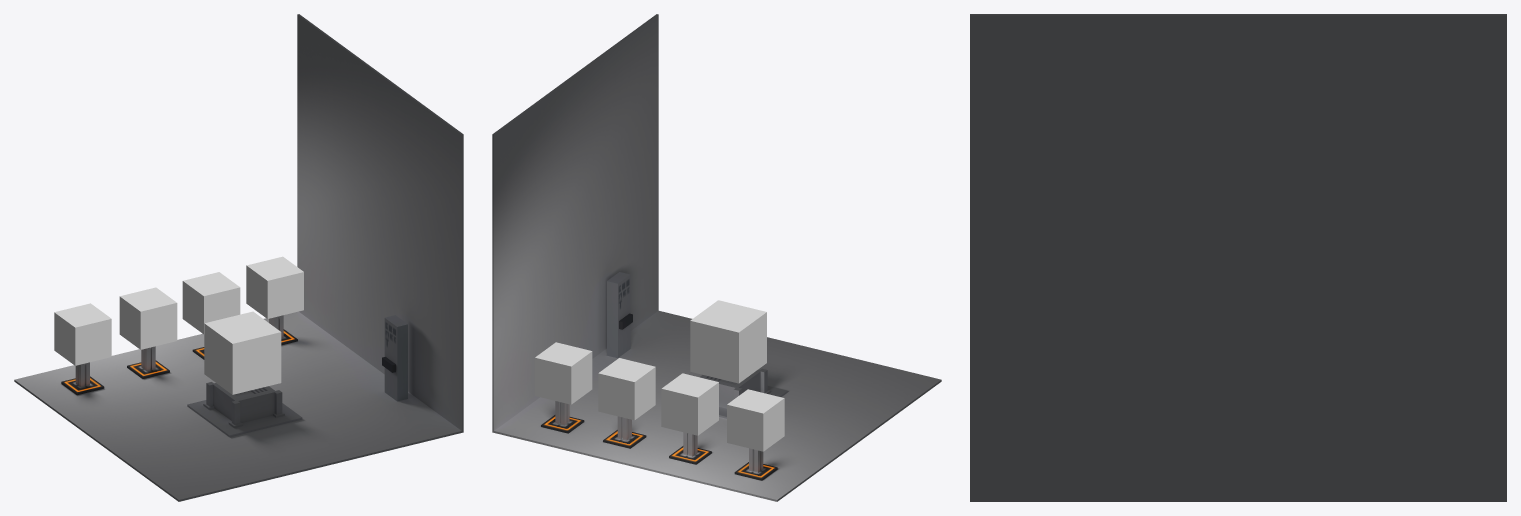
File: level3-placeholders.glb
The picture shows the model from 3 angles, left to right: view 1: azimuth 30°, elevation 25°; view 2: azimuth 150°, elevation 25°; view 3: azimuth 270°, elevation 25°; orthographic projection. The views are drawn at different scales.
Parts seen in each view (by area): view 1: voxel_map_level1-4-0, show-model, model-placeholder-2, model-placeholder-1, model-placeholder-4, model-placeholder-3; view 2: voxel_map_level1-4-0, show-model, model-placeholder-1, model-placeholder-4, model-placeholder-3, model-placeholder-2; view 3: voxel_map_level1-4-0.
Part boxes in pixels (left/top/right/bottom): voxel_map_level1-4-0: left=14, top=14, right=463, bottom=501; show-model: left=204, top=311, right=281, bottom=394; model-placeholder-2: left=119, top=287, right=177, bottom=349; model-placeholder-1: left=54, top=303, right=111, bottom=365; model-placeholder-4: left=246, top=256, right=303, bottom=318; model-placeholder-3: left=182, top=272, right=240, bottom=334; voxel_map_level1-4-0: left=492, top=14, right=941, bottom=501; show-model: left=690, top=300, right=766, bottom=383; model-placeholder-1: left=727, top=389, right=784, bottom=451; model-placeholder-4: left=535, top=342, right=592, bottom=404; model-placeholder-3: left=598, top=358, right=655, bottom=420; model-placeholder-2: left=661, top=373, right=718, bottom=435; voxel_map_level1-4-0: left=970, top=14, right=1506, bottom=501.
Bounding box in the file's own units: 156 × 156 × 156.
9 materials, 8 textured.
